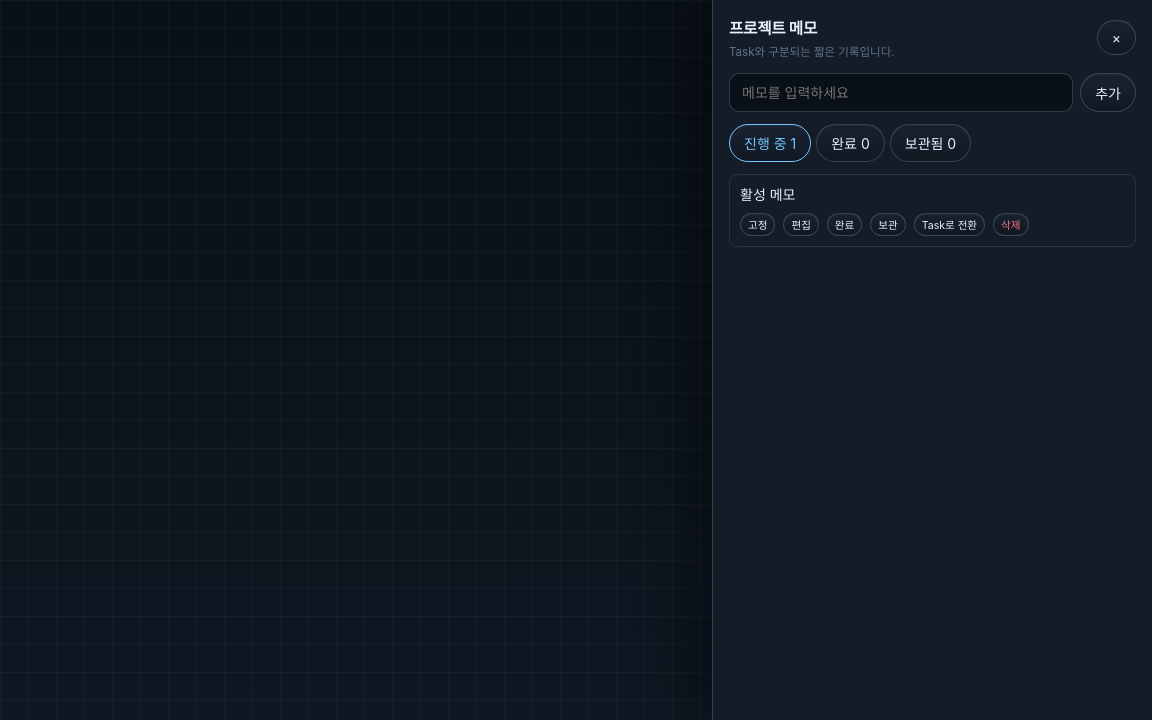
Test: ProjectNotesDrawer › adds, edits, and pins notes while notifying the owner after each success
This screenshot has width=1152, height=720.
Expected: the text "활성 메모" is shown, left=740, top=186, right=796, bottom=203
Type " 새 메모 " into the field named "새 프로젝트 메모" at (901, 92), box left=729, top=73, right=1073, bottom=112
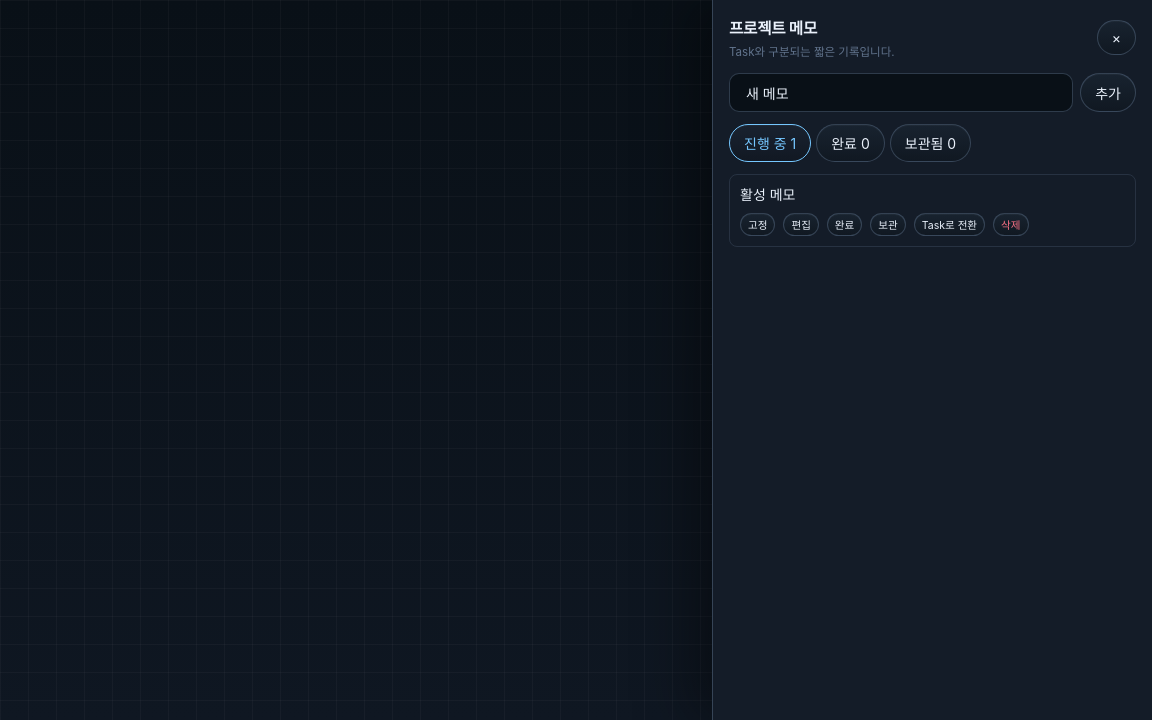
Click the button "추가" at (1108, 92), box left=1080, top=73, right=1136, bottom=112
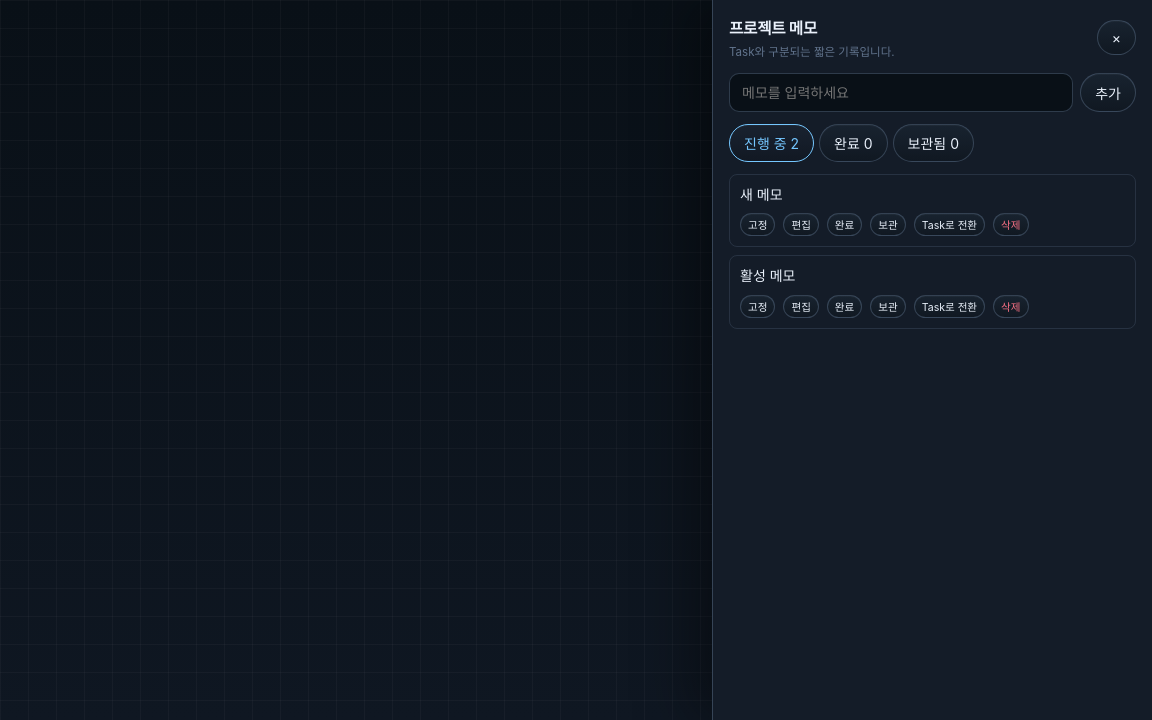
Expected: the text "새 메모" is shown, left=740, top=186, right=783, bottom=203
Click the button "편집" below "활성 메모" at (801, 306), box left=783, top=295, right=819, bottom=318
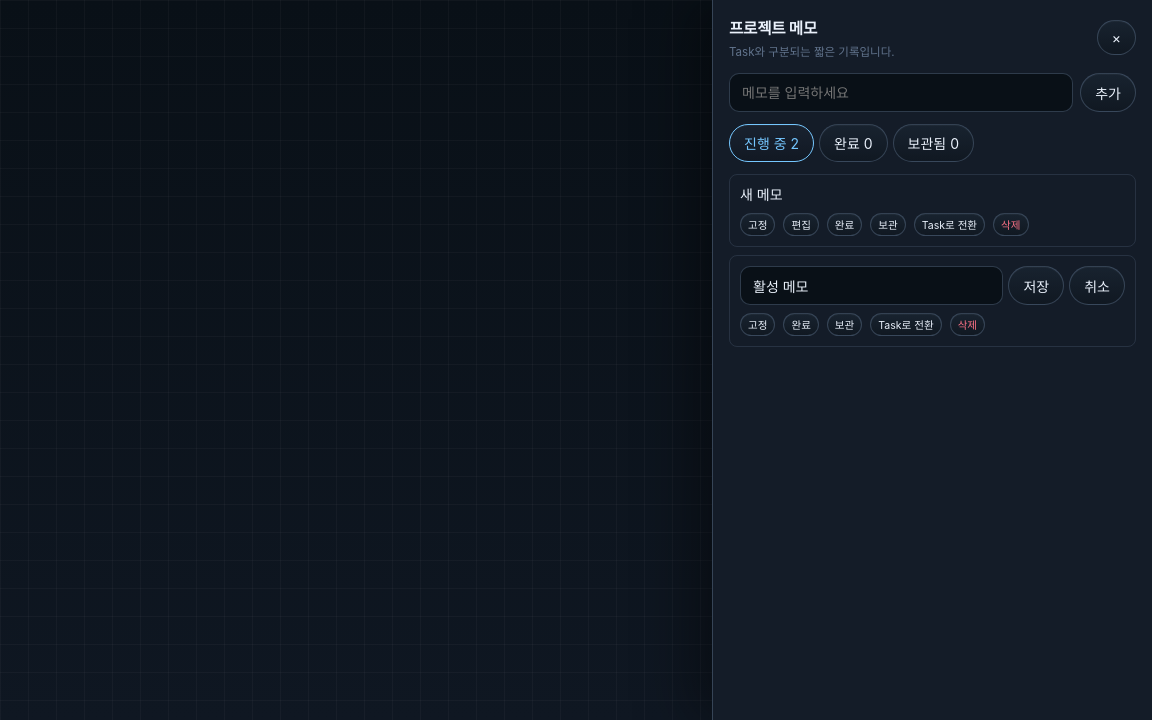
Replace the text in the field named "활성 메모 메모 편집" with "편집 완료" at (872, 286), box left=740, top=266, right=1004, bottom=305
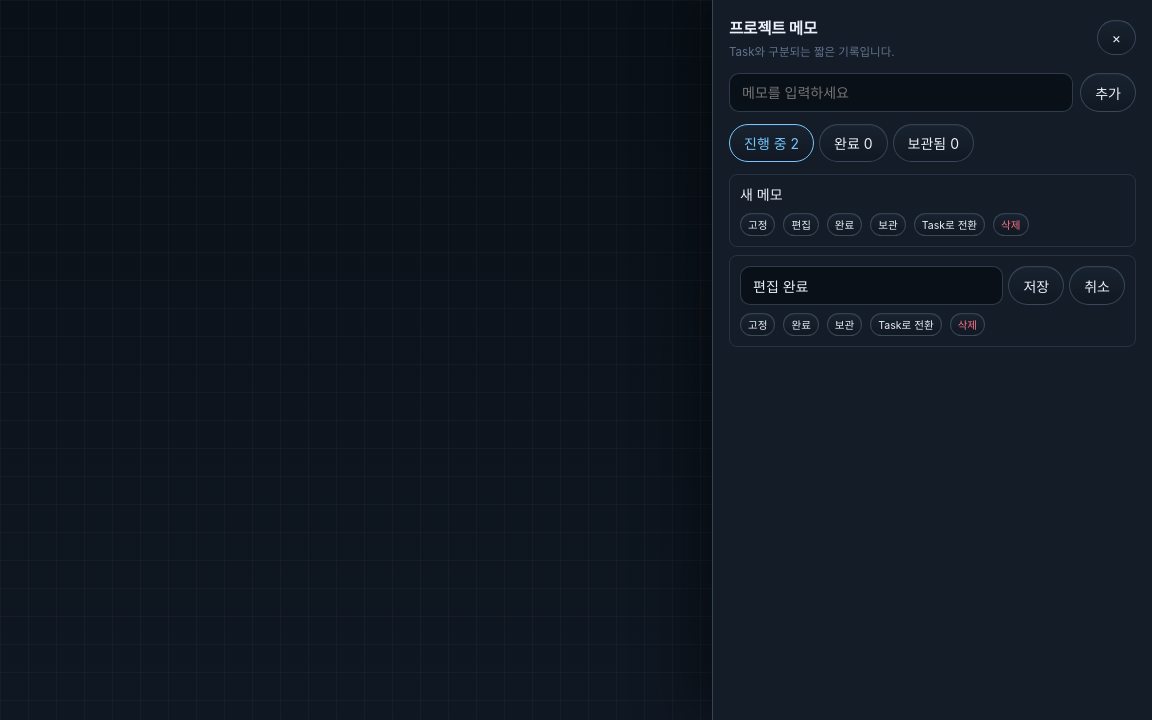
Click the button "저장" at (1036, 286), box left=1008, top=266, right=1064, bottom=305
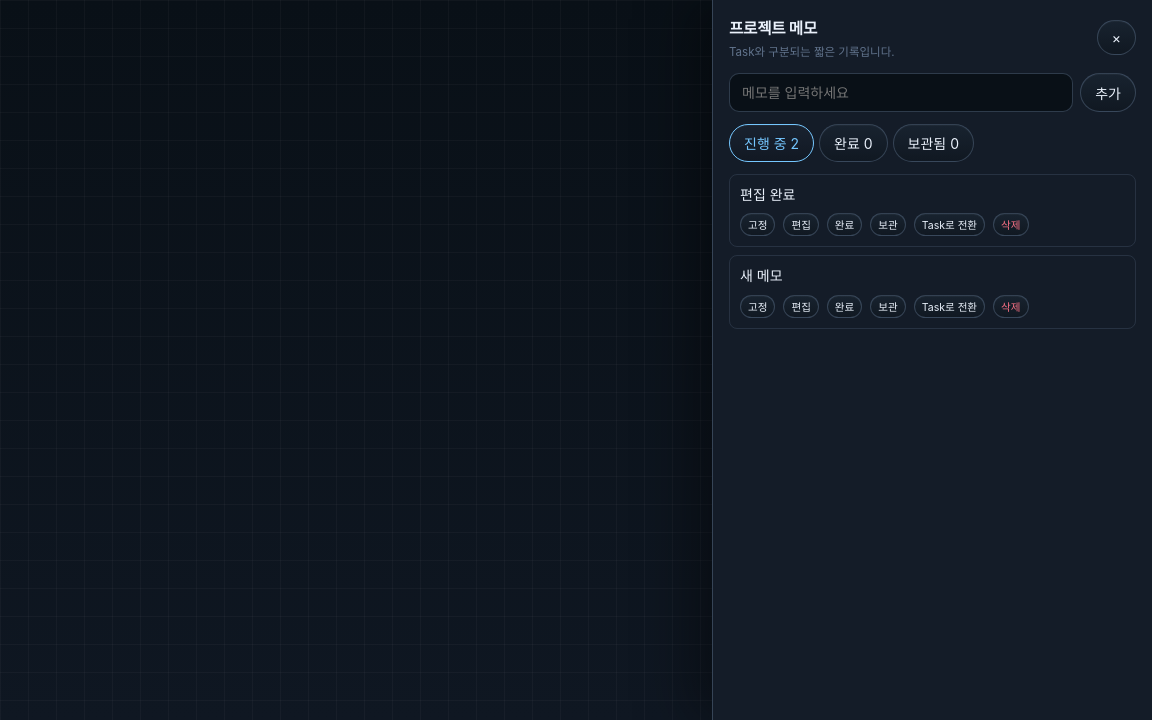
Expected: the text "편집 완료" is shown, left=740, top=186, right=796, bottom=203
Click the 1st button "고정" at (758, 225), box left=740, top=213, right=775, bottom=236
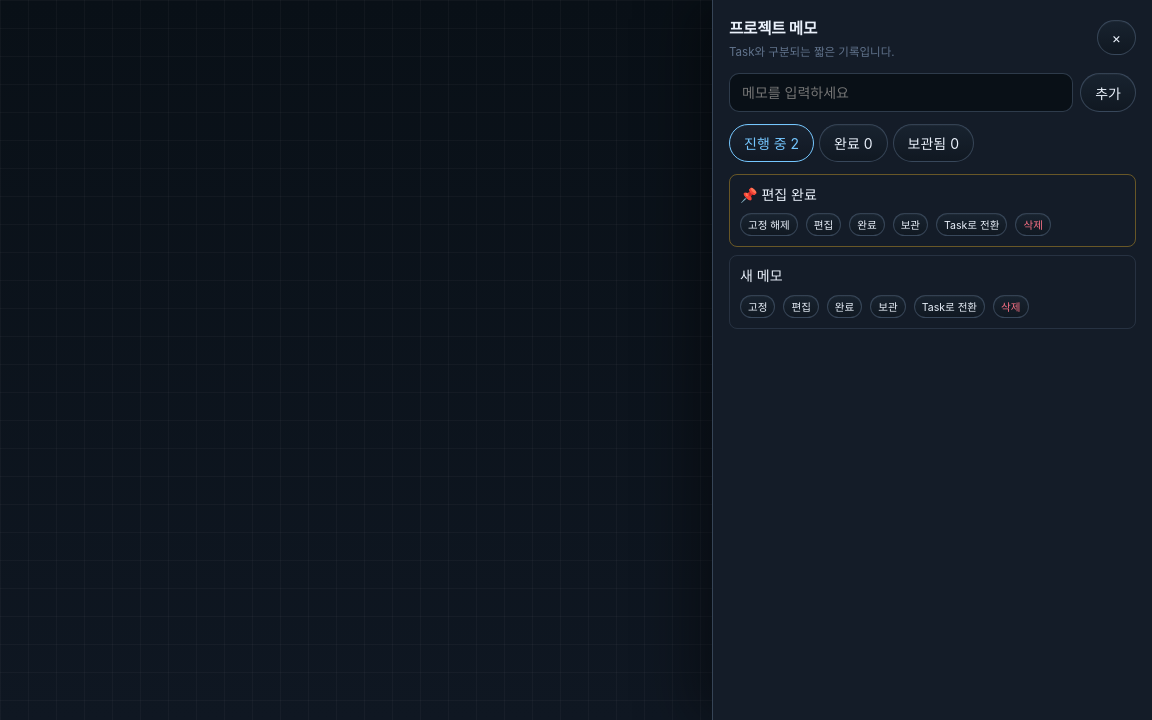
Expected: the text named "고정됨" is shown, left=740, top=186, right=758, bottom=203
